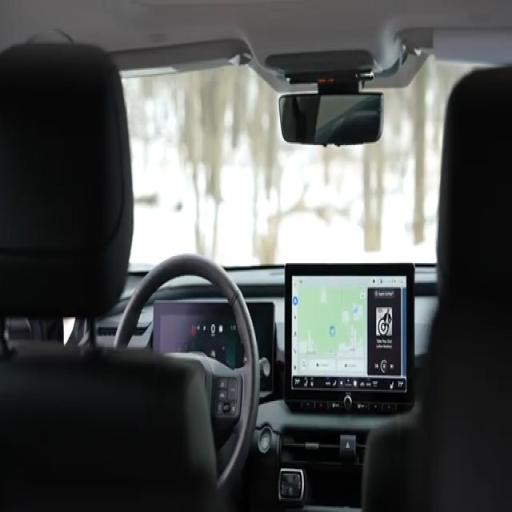windshield: (124, 59, 469, 265)
